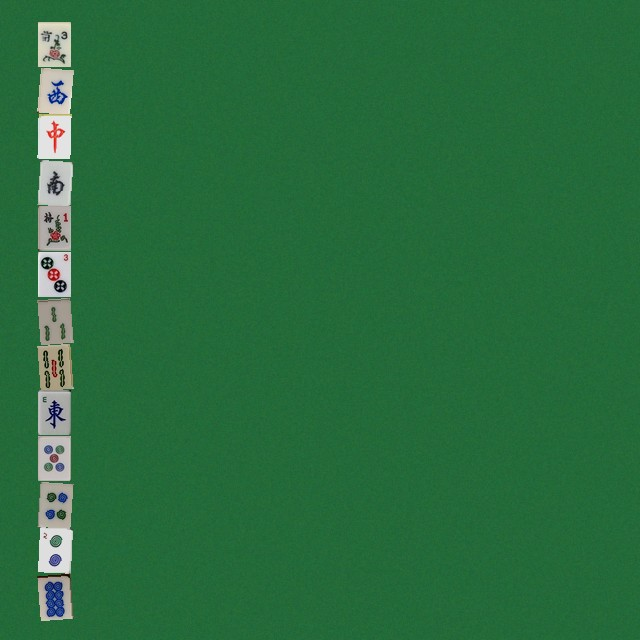tile: (37, 21, 70, 66), (37, 67, 70, 112), (37, 113, 70, 158), (37, 159, 70, 204), (37, 205, 70, 250), (37, 251, 70, 296), (37, 297, 70, 342), (37, 343, 70, 388), (37, 389, 70, 434), (37, 435, 70, 480), (37, 481, 70, 526), (37, 527, 70, 572), (37, 573, 70, 618)
